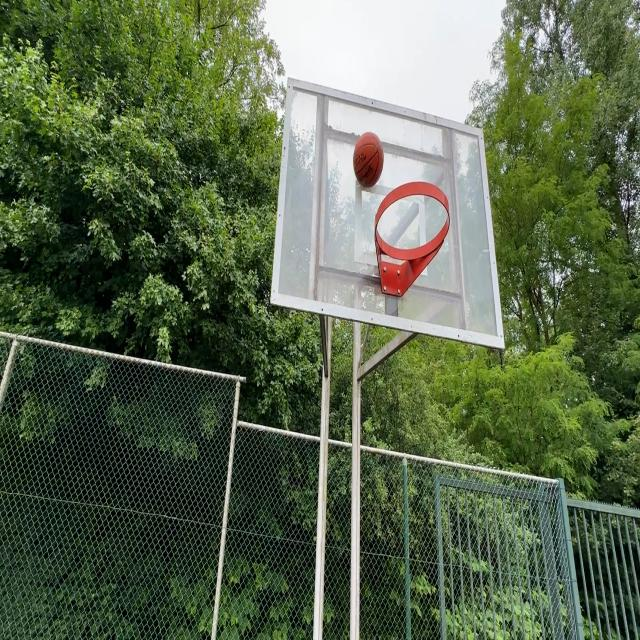rebound_hit: (355, 128, 385, 192)
